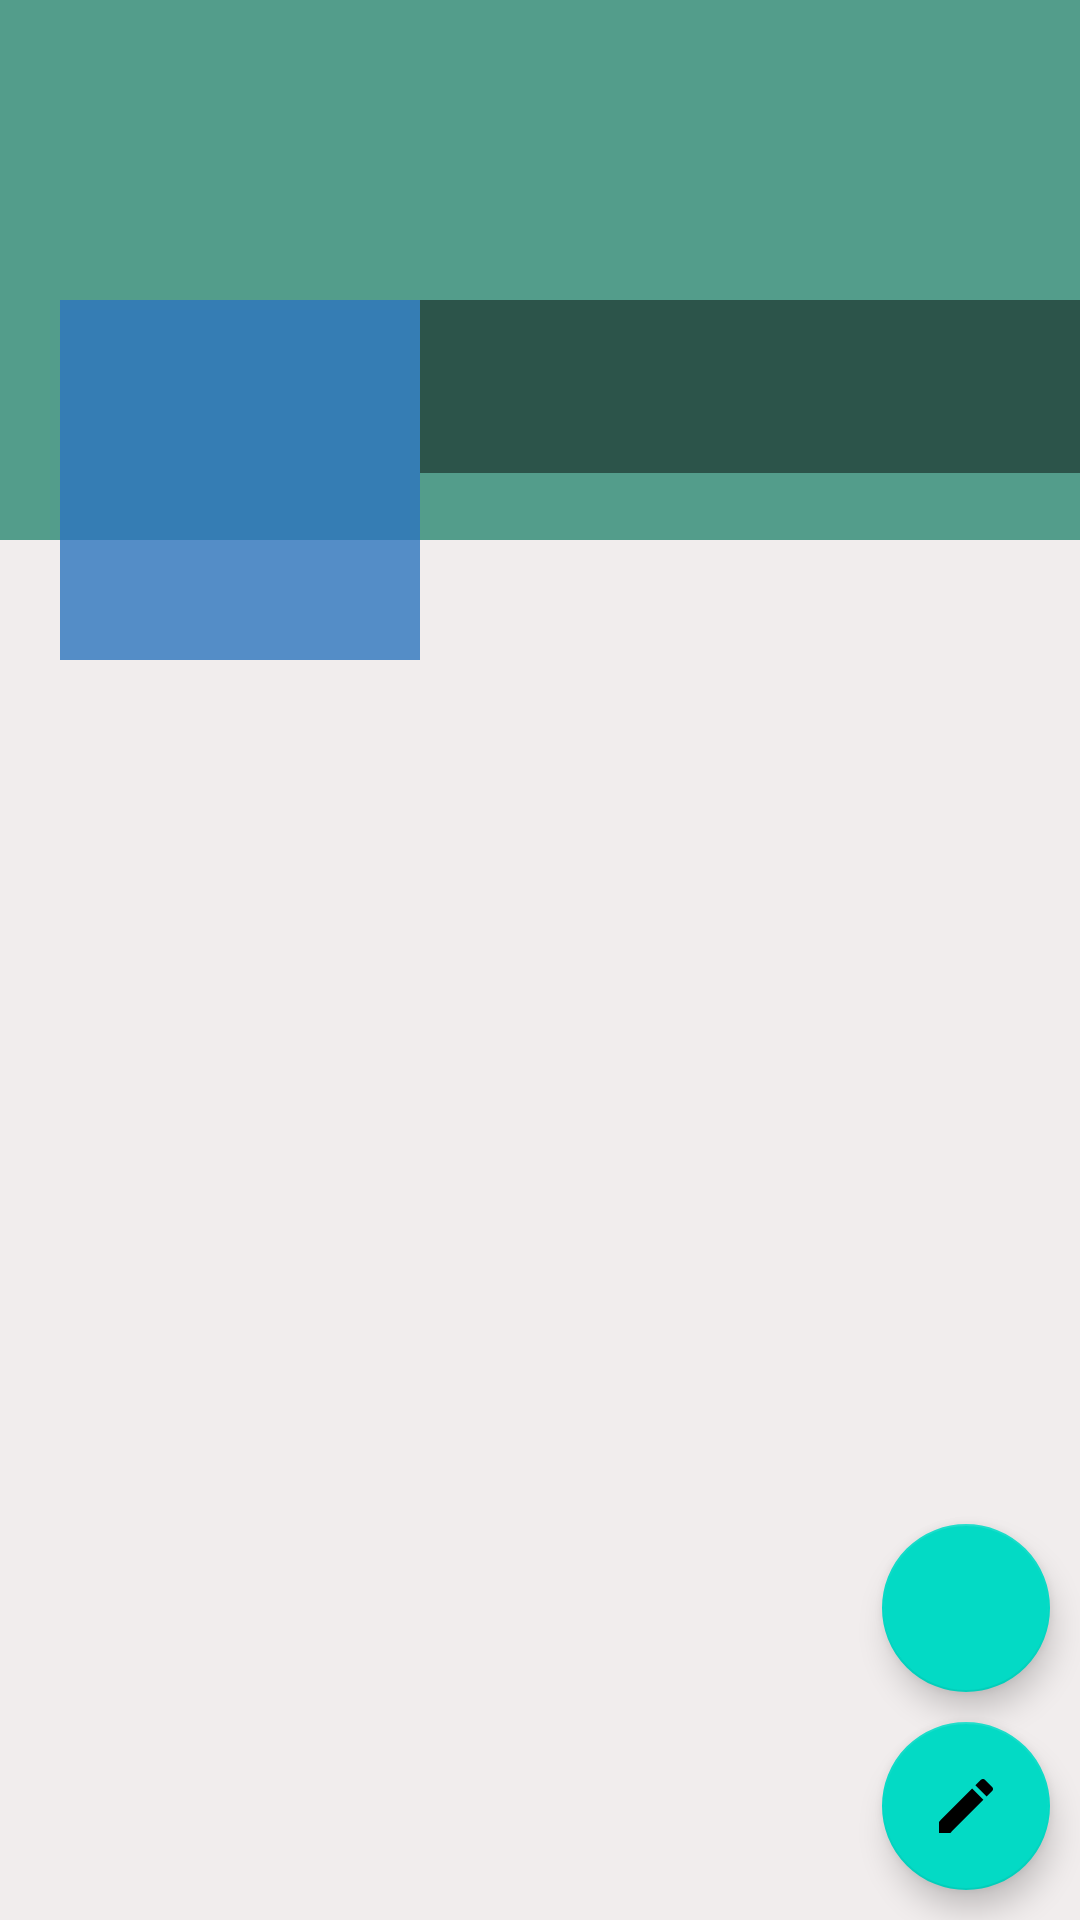

Screen size 1080 x 1920. Icon name, then its box in pixels as [x1,y1,x2,y2]:
edit: [882,1722,1050,1890]
